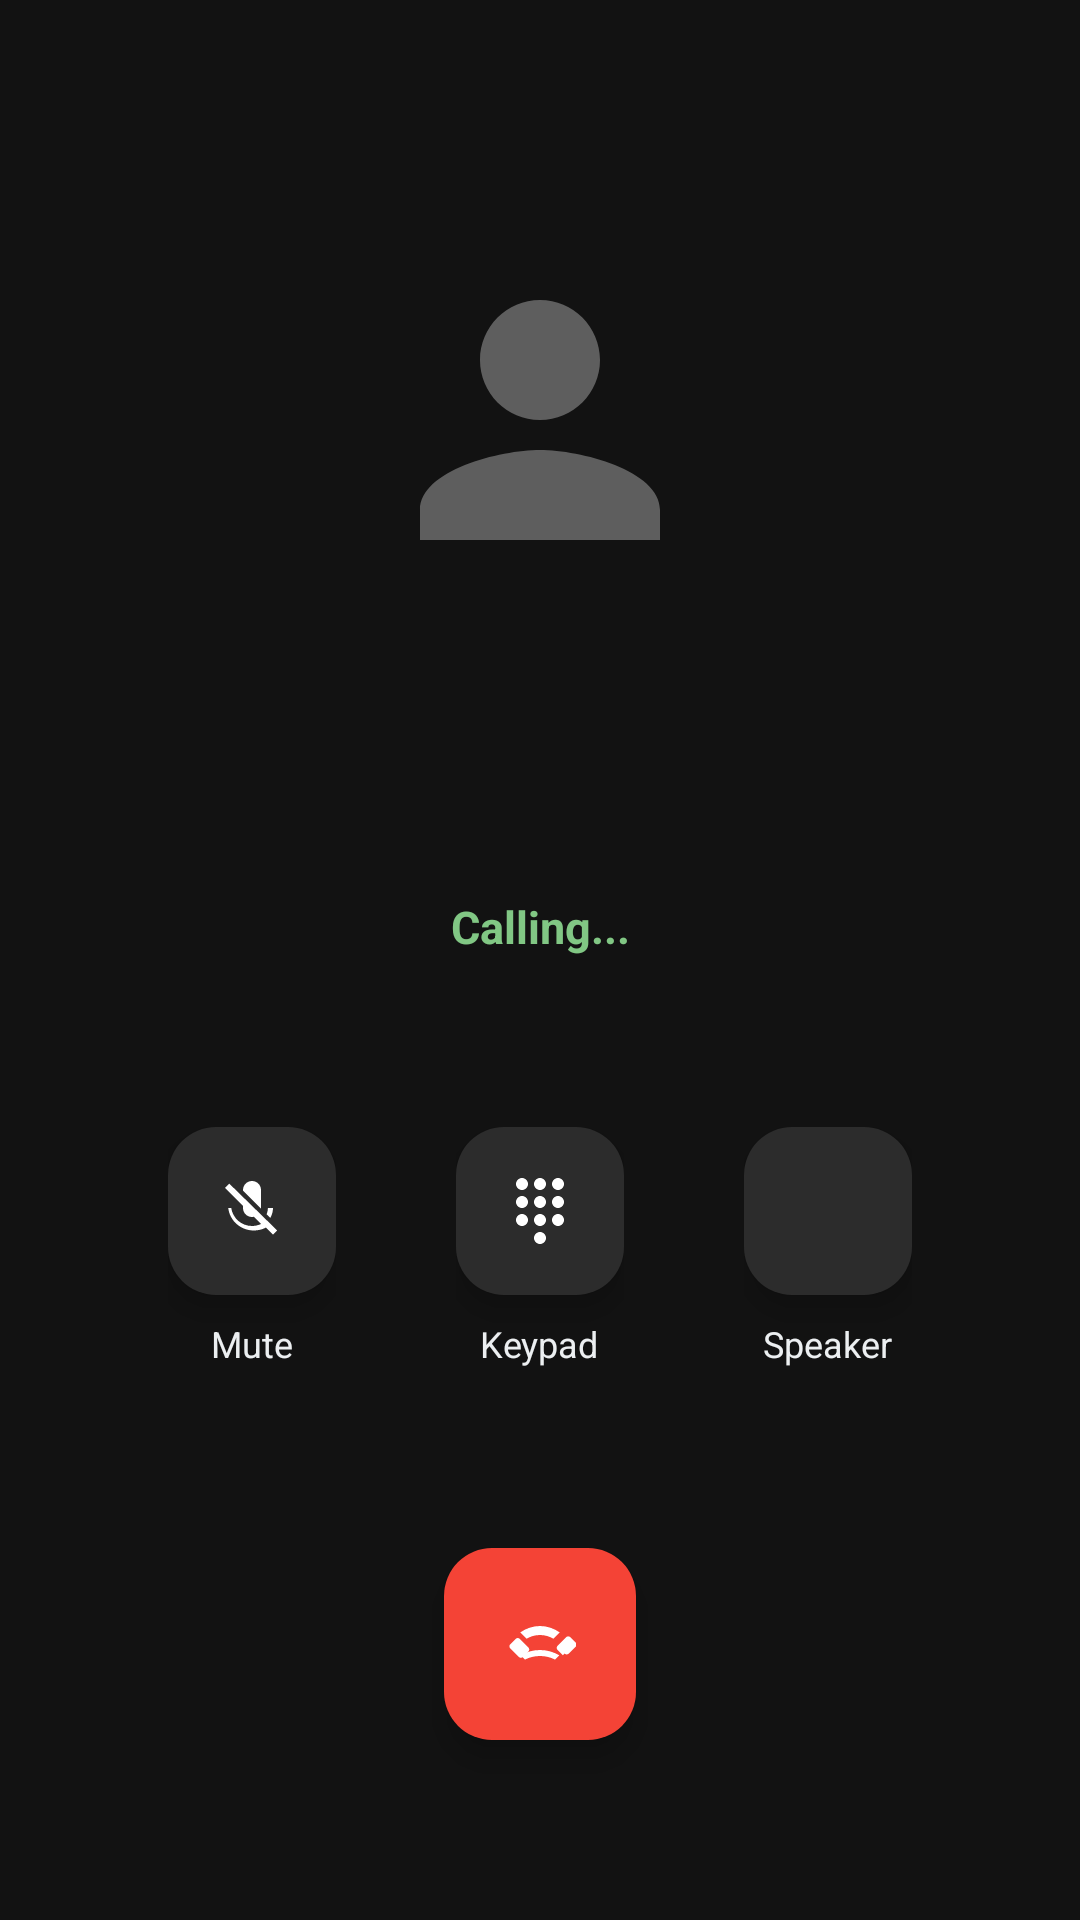

Icons on this 1080px×1920px Android screen, each with the point to tap as point (x, y):
Avatar: point (540, 420)
End Call: point (540, 1644)
